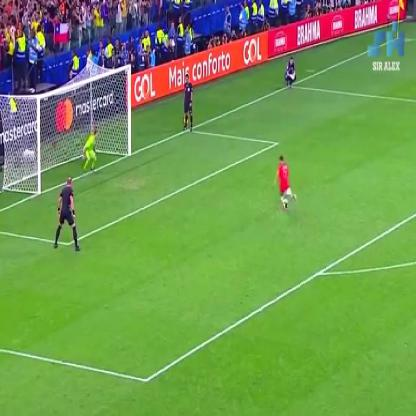penalty kick: (9, 76, 332, 224)
